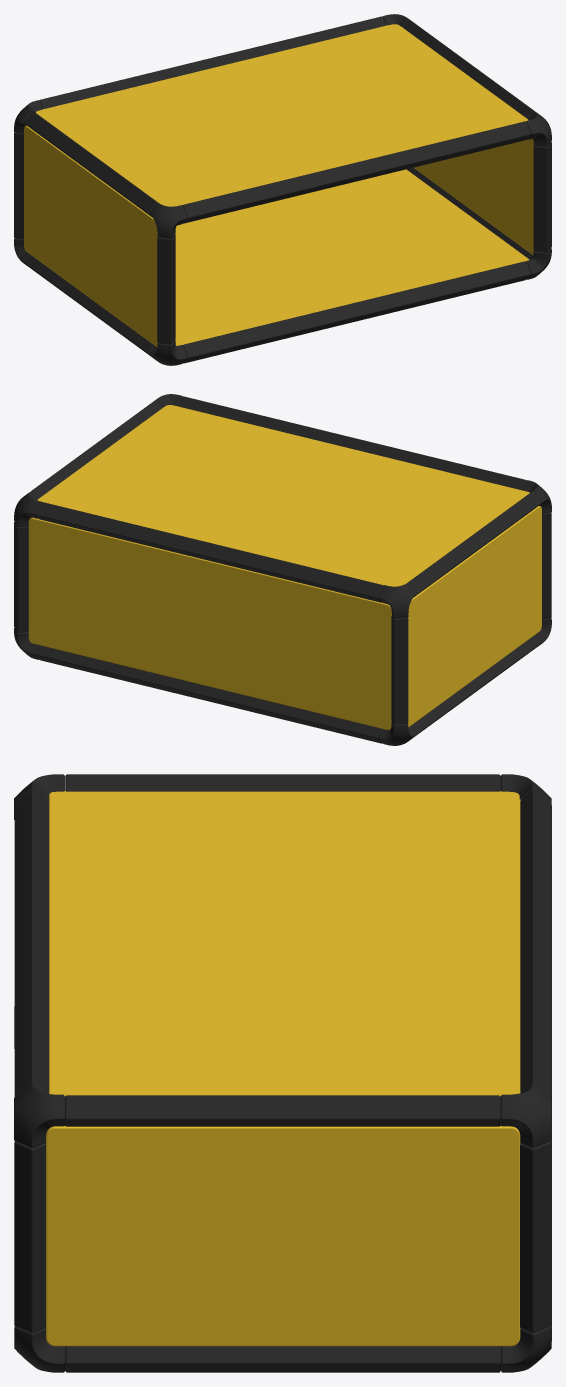
3 views of the same model, one above another, from view 1: azimuth 30°, elevation 25°; view 2: azimuth 150°, elevation 25°; view 3: azimuth 270°, elevation 25° (orthographic). The views are drawn at different scales.
Visible parts, largest first — view 1: 523x329x154; view 2: 523x329x154; view 3: 523x329x154.
Part boxes in pixels (x1,y1,x2,y2): 523x329x154: [14, 14, 551, 365]; 523x329x154: [14, 394, 551, 745]; 523x329x154: [14, 774, 551, 1372].
Bounding box in the file's own units: 0.6007 × 0.2316 × 0.4063.
